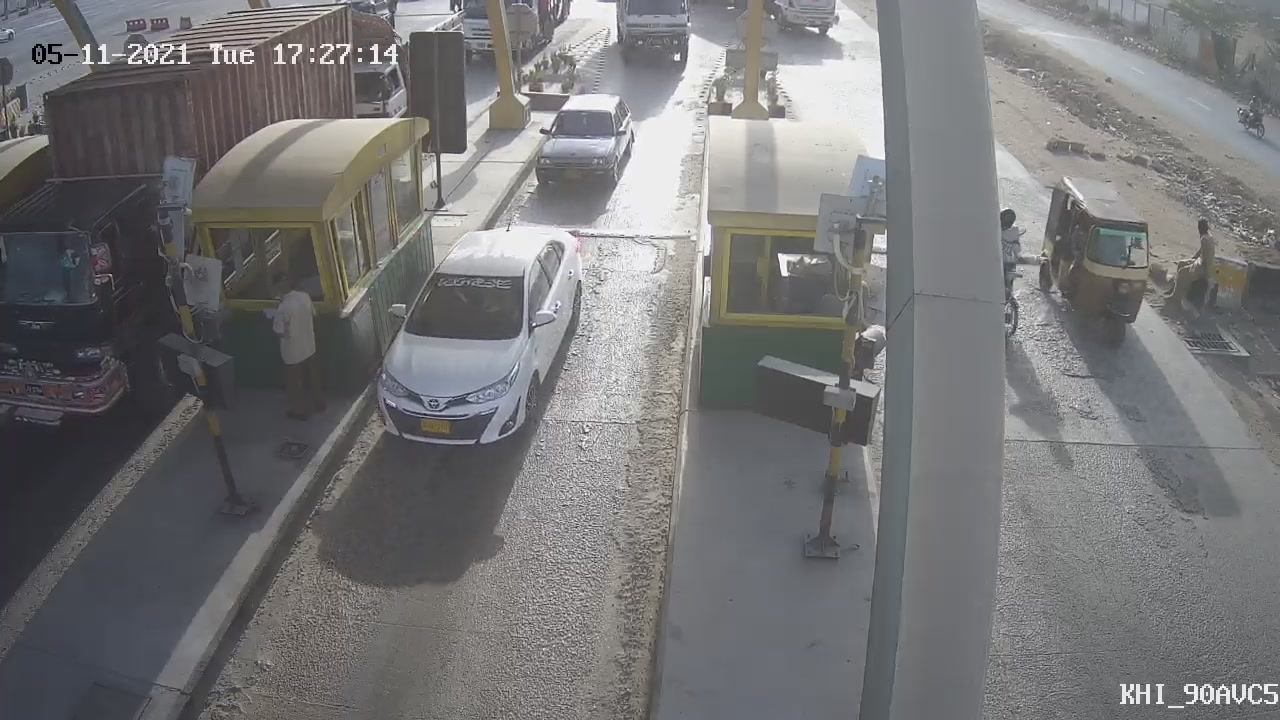F1: (344, 204, 607, 472), (518, 78, 648, 208)
